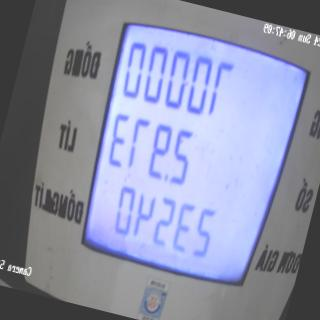screen: (61, 2, 320, 307)
